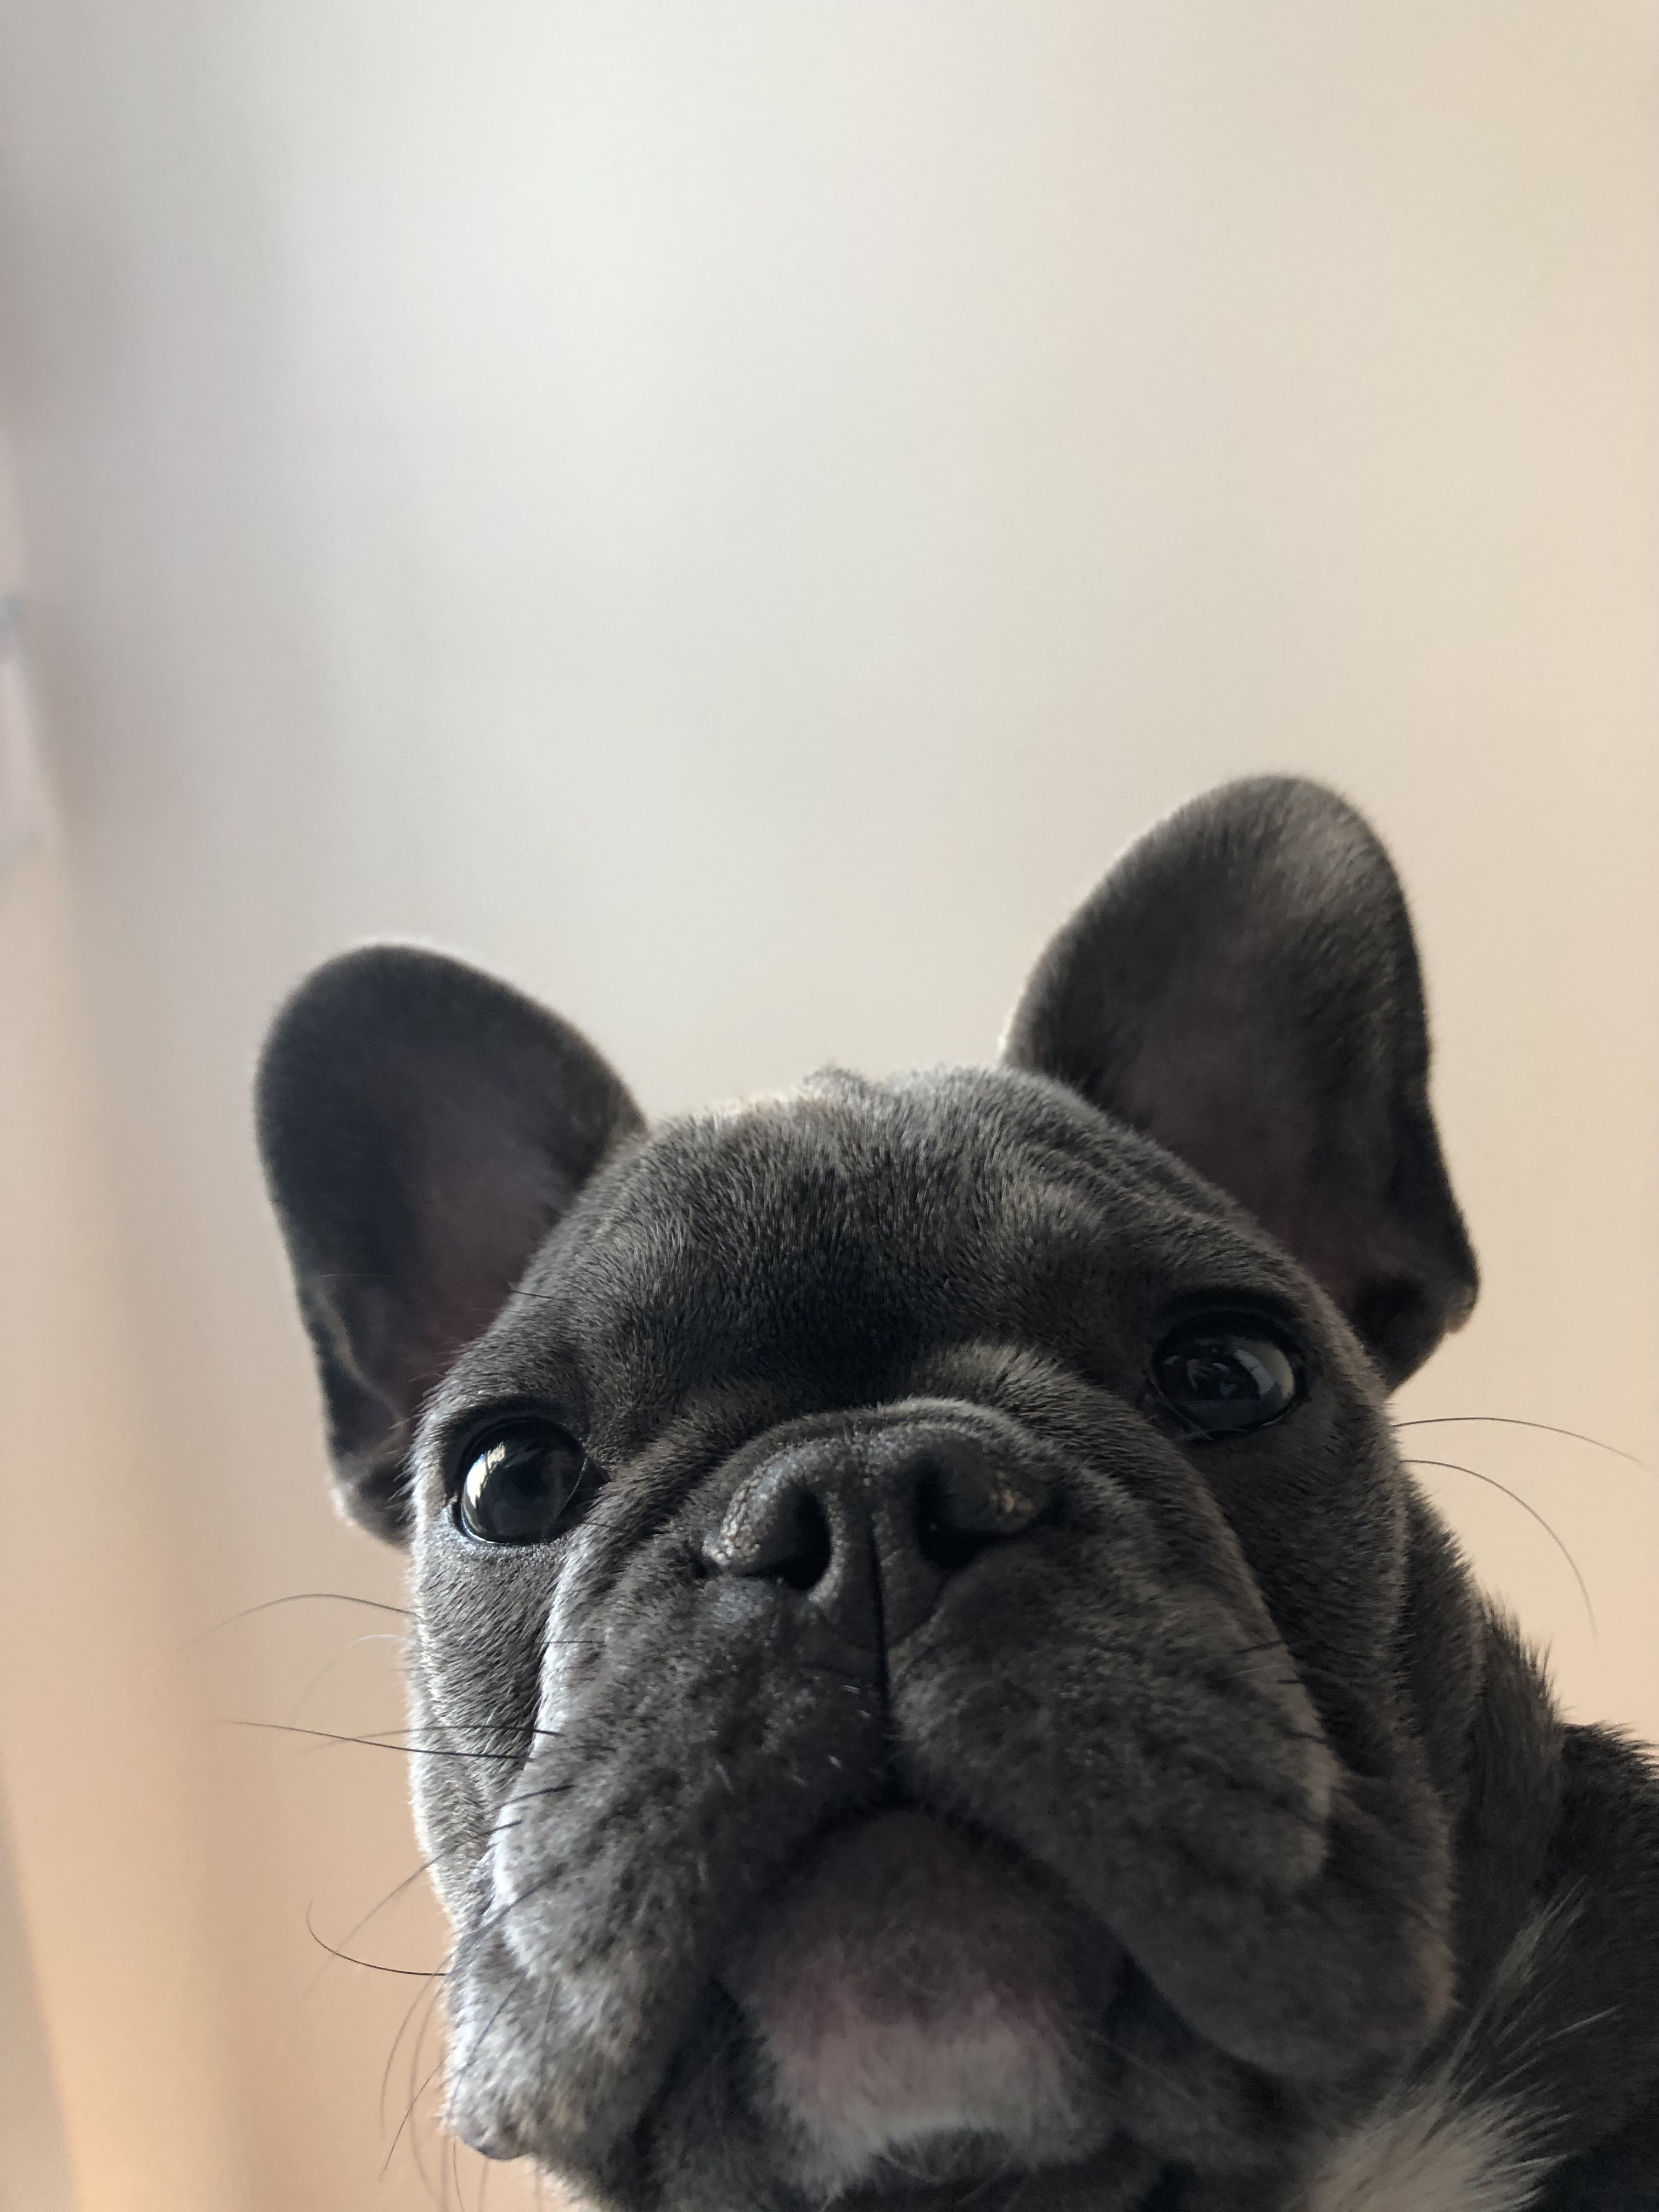lucy: (235, 766, 1650, 2193)
